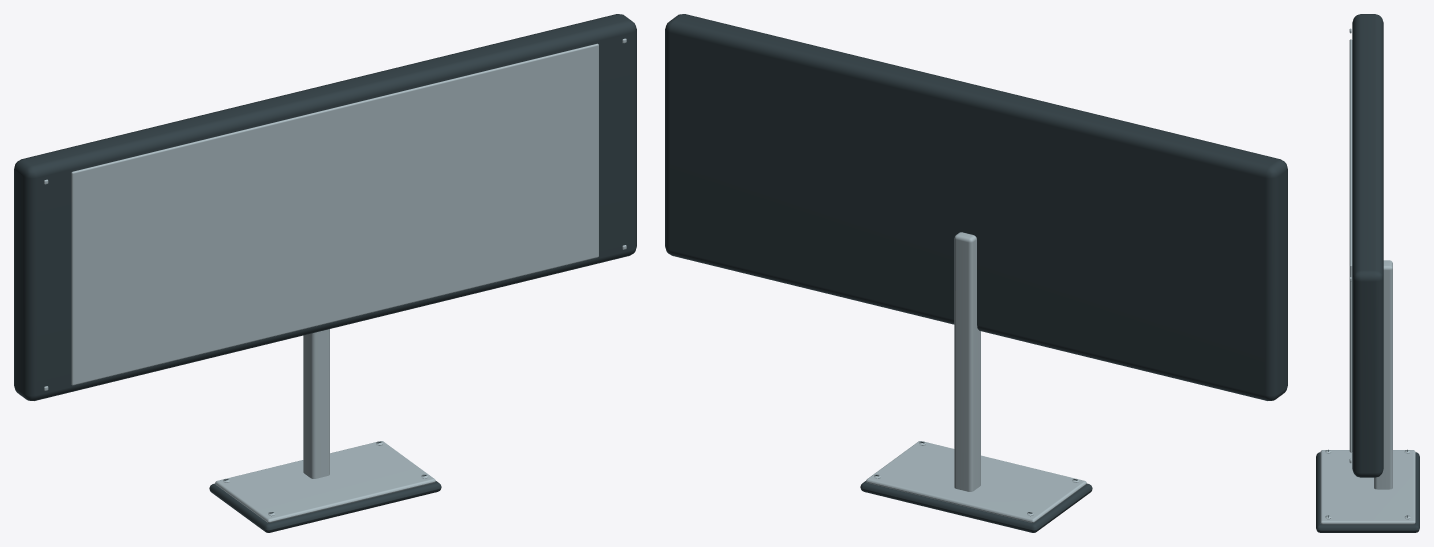
Rendered from monitor.glb.
The picture shows the model from 3 angles, left to right: view 1: azimuth 30°, elevation 25°; view 2: azimuth 150°, elevation 25°; view 3: azimuth 270°, elevation 25°; orthographic projection. The views are drawn at different scales.
Visible parts, largest first — view 1: Monitor face rim, Monitor housing, Satin upper panel, Display upright, Machined plinth; view 2: Monitor housing, Satin upper panel, Display upright, Machined plinth; view 3: Monitor housing, Satin upper panel, Display upright, Machined plinth, Monitor face rim.
Part boxes in pixels (box(x1,y1,x2,y2)): Monitor face rim: box(71, 43, 598, 385); Monitor housing: box(14, 14, 636, 400); Satin upper panel: box(215, 441, 435, 522); Display upright: box(303, 329, 329, 478); Machined plinth: box(209, 481, 441, 532); Monitor housing: box(665, 14, 1287, 400); Satin upper panel: box(866, 441, 1086, 522); Display upright: box(954, 232, 980, 491); Machined plinth: box(860, 481, 1092, 532); Monitor housing: box(1352, 14, 1383, 477); Satin upper panel: box(1320, 450, 1415, 524); Display upright: box(1374, 260, 1392, 489); Machined plinth: box(1316, 452, 1419, 532); Monitor face rim: box(1349, 39, 1352, 452).
Bounding box in the file's own units: 1.8 × 1.13 × 0.3.
